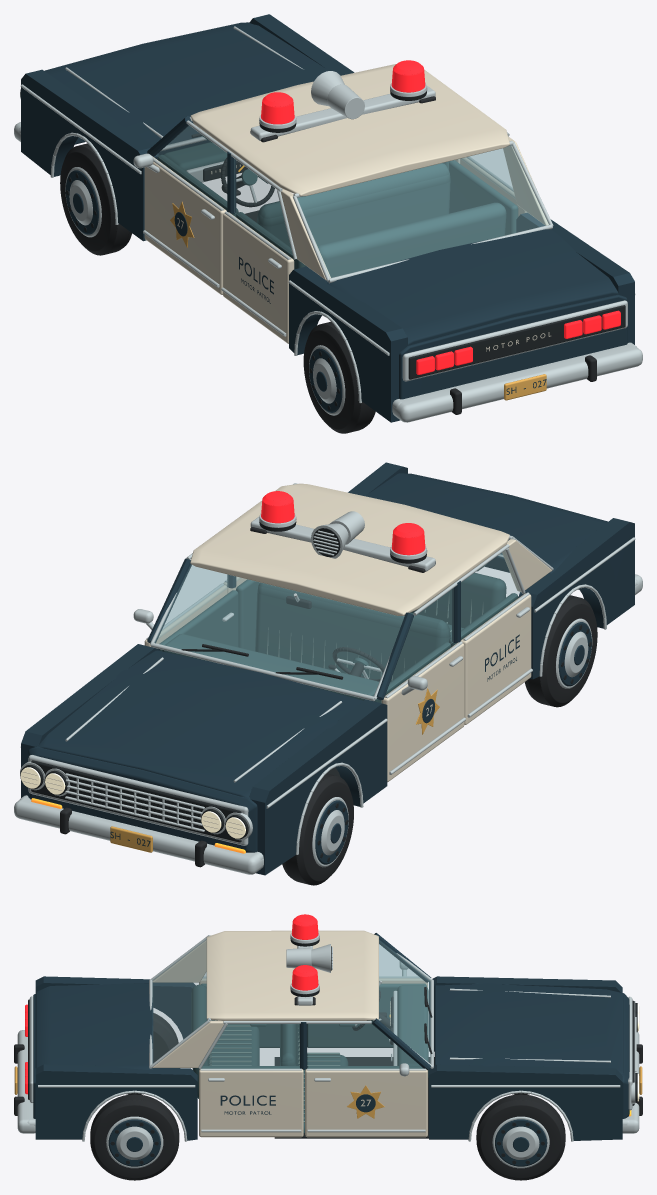
Rendered from PatrolCruiser.fbx.
3 views of the same model, one above another, from view 1: azimuth 30°, elevation 25°; view 2: azimuth 150°, elevation 25°; view 3: azimuth 270°, elevation 25° (orthographic). The views are drawn at different scales.
Parts seen in each view (by area): view 1: PatrolCruiser; view 2: PatrolCruiser; view 3: PatrolCruiser.
Boxes of the visible parts, x1,y1,x2,y2 form: PatrolCruiser: (14, 14, 642, 433); PatrolCruiser: (14, 462, 642, 885); PatrolCruiser: (14, 914, 642, 1180).
Bounding box in the file's own units: 251 × 201 × 593.
